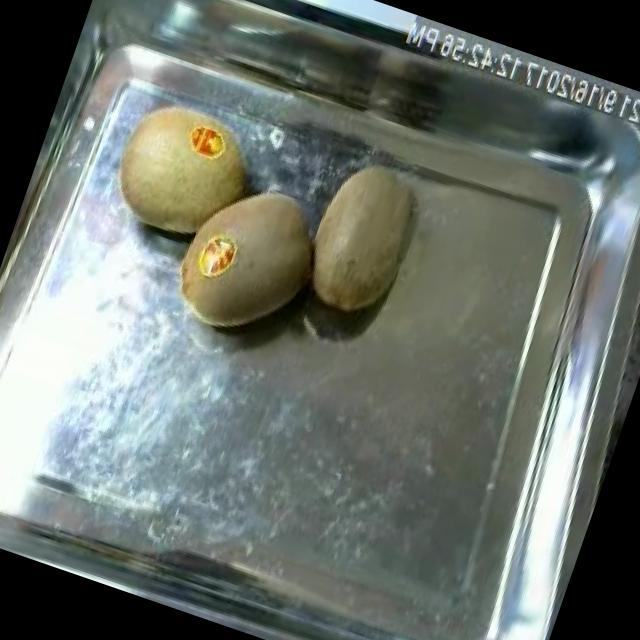Fruit: (150, 155, 344, 364), (91, 79, 276, 263), (284, 138, 444, 338)
